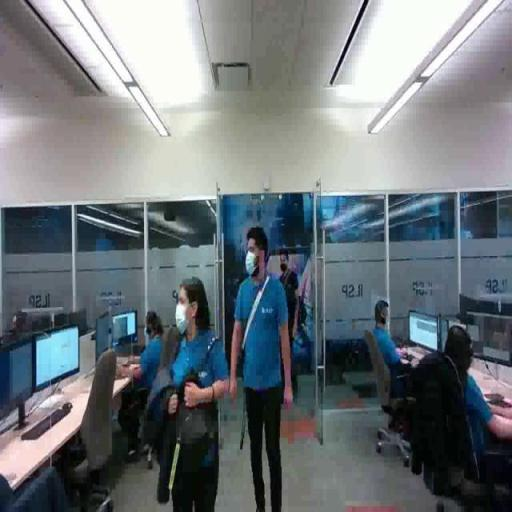person: (152, 272, 231, 512), (230, 226, 295, 512), (418, 316, 512, 488), (368, 296, 424, 432), (116, 308, 169, 435)
